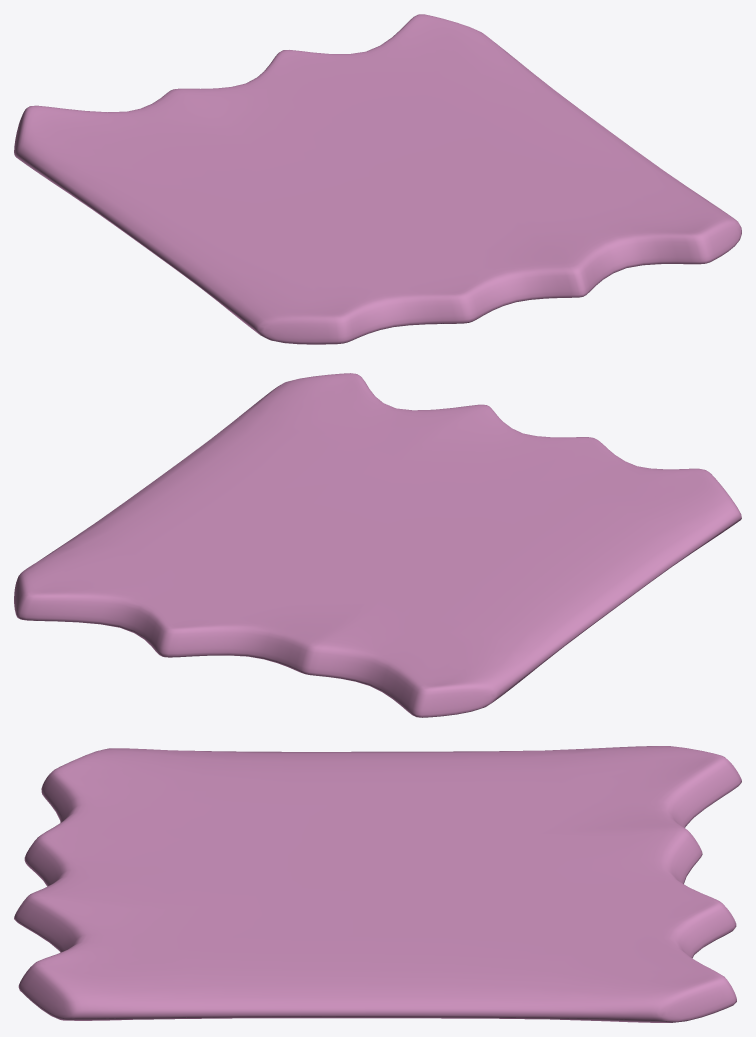
The model's file is CapePieceStraight_TornFront_TornBack.fbx.
The picture shows the model from 3 angles, top to bottom: view 1: azimuth 30°, elevation 25°; view 2: azimuth 150°, elevation 25°; view 3: azimuth 270°, elevation 25°; orthographic projection. The views are drawn at different scales.
Visible parts, largest first — view 1: CapePieceStraight_TornFront_TornBack; view 2: CapePieceStraight_TornFront_TornBack; view 3: CapePieceStraight_TornFront_TornBack.
Part boxes in pixels (x1,y1,x2,y2): CapePieceStraight_TornFront_TornBack: [14, 14, 741, 344]; CapePieceStraight_TornFront_TornBack: [14, 373, 741, 717]; CapePieceStraight_TornFront_TornBack: [14, 746, 741, 1022].
Bounding box in the file's own units: 0.7857 × 0.0479 × 0.9192.
